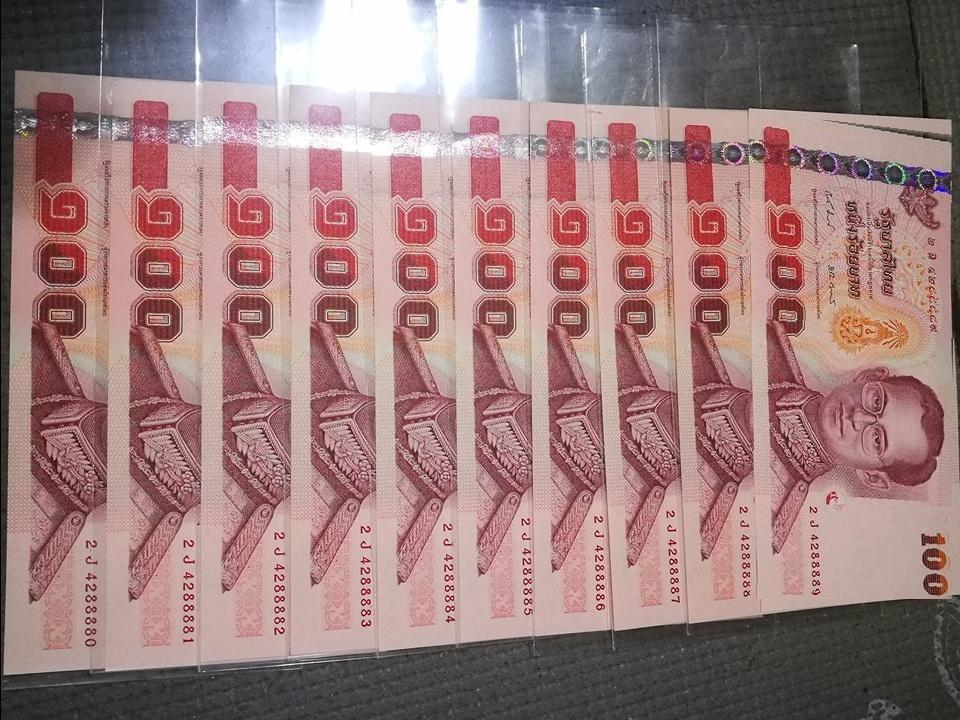100BahtTai: (750, 112, 955, 600)
